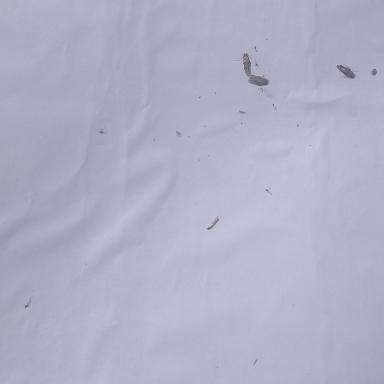pbw: (233, 53, 252, 76), (335, 64, 359, 78), (248, 74, 270, 86)
